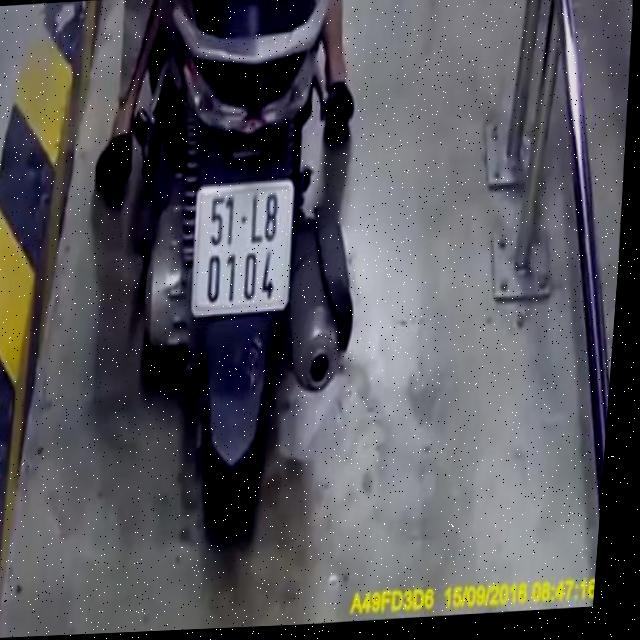motorcycle: (95, 0, 389, 564)
plate: (183, 178, 305, 317)
